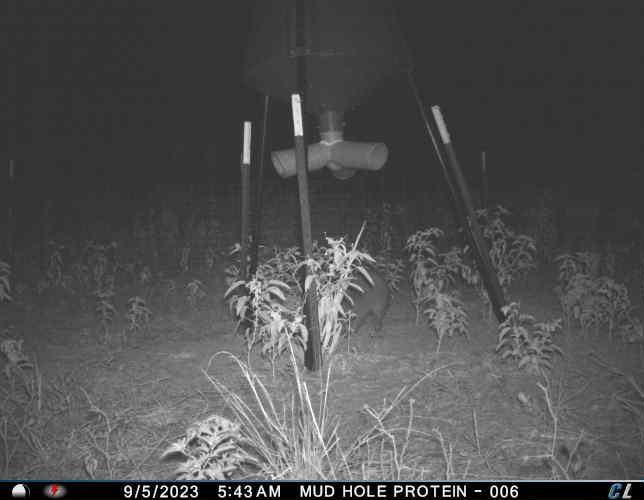Raccoon: (336, 261, 392, 334)
